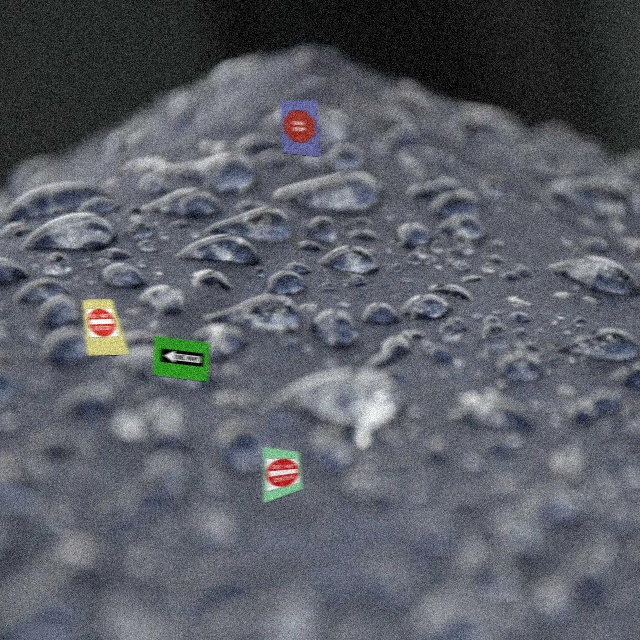DO_NOT_ENTER: (263, 457, 301, 493), (83, 306, 119, 342)
FAKE_STOP: (282, 111, 317, 145)
ONE_WAY_ left: (161, 349, 204, 368)
